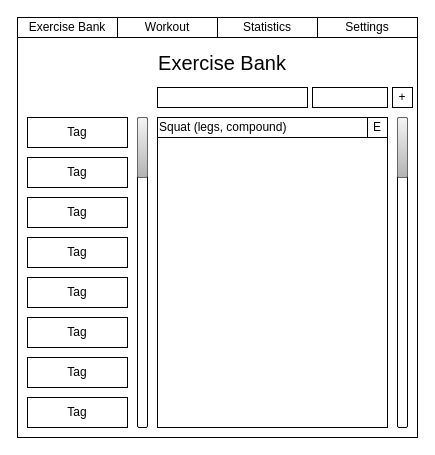
Some shapes in this 435 by 455 pixel diagram are drawn without their labels. Here are the shapes that lost their labels. From the top down, the box of each, then its label:
(156, 86, 308, 108): Searchbox
(312, 86, 388, 108): Button
(156, 116, 388, 428): Exercise list
